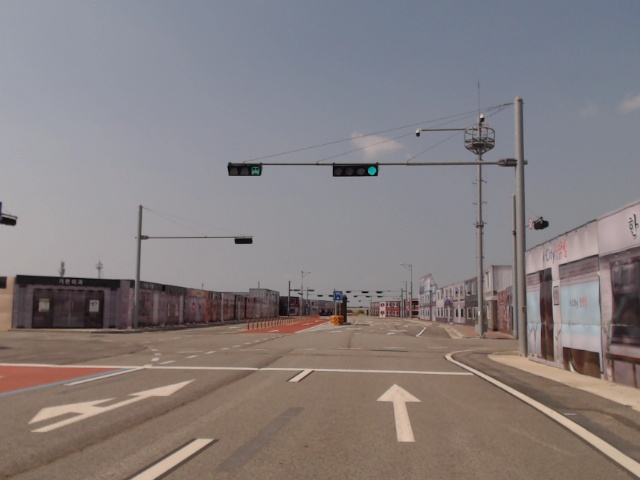straight_green_4: (333, 162, 377, 177)
